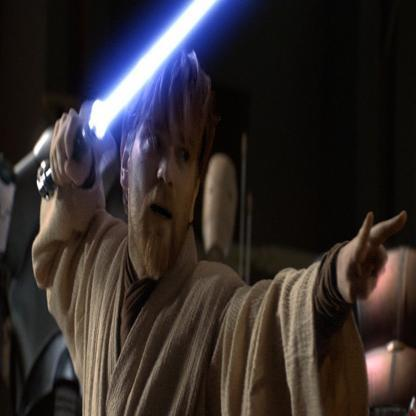lightsaber: (25, 0, 253, 205)
